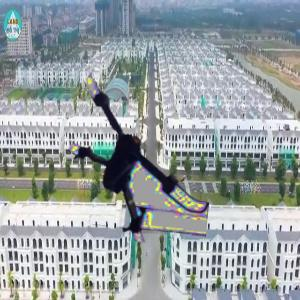drone: (44, 72, 215, 243)
